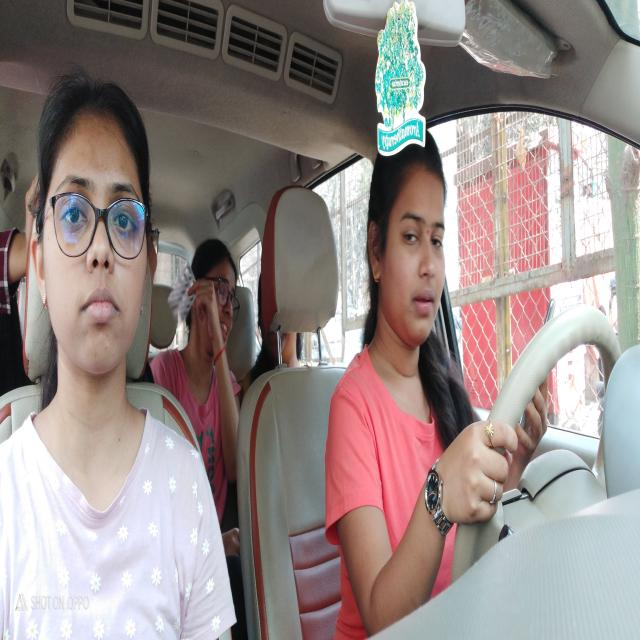mobile: (532, 288, 559, 362)
person: (36, 74, 157, 391), (368, 125, 451, 369), (188, 237, 240, 376)
